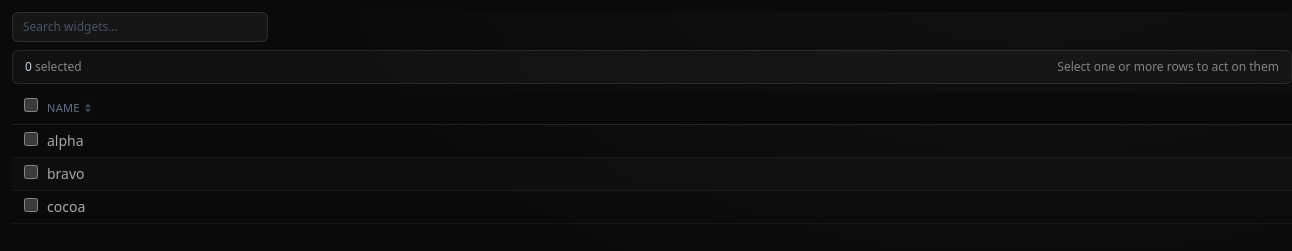
DataTable, row actions in one bar › a verb no selected row can take is DISABLED and carries the reason
This screenshot has width=1292, height=251.
Click the checkbox named "Select bravo" at (31, 172), box [24,165,38,179]
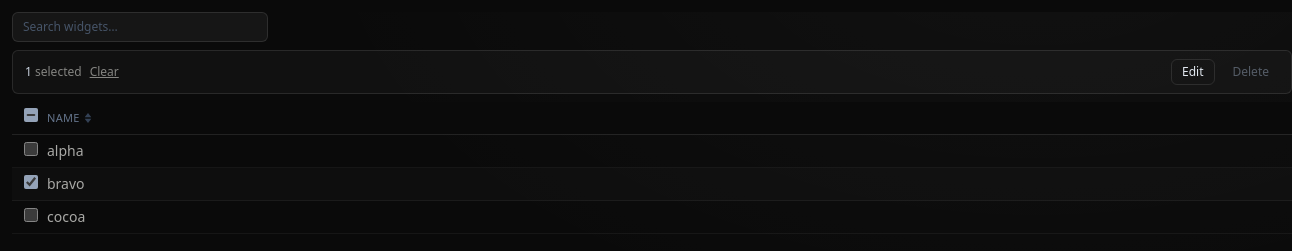
Expected: the button "Delete" is disabled, [1222,60,1279,84]
